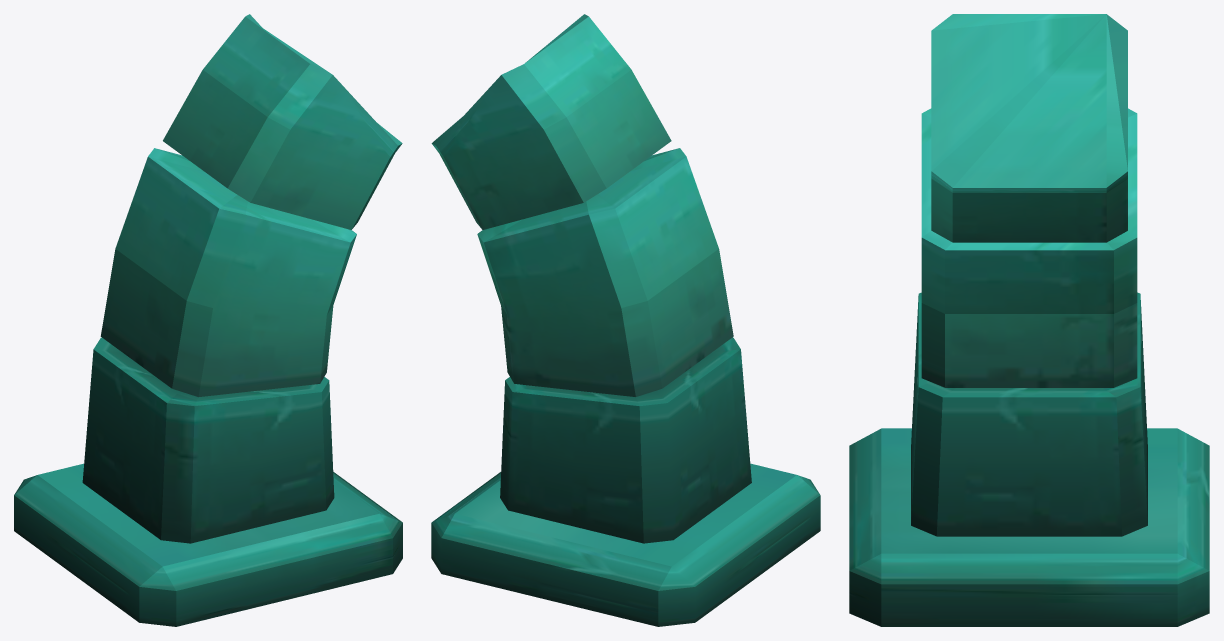
Rendered from wall_column4 (merge).fbx.
3 renders of one model, left to right at view 1: azimuth 30°, elevation 25°; view 2: azimuth 150°, elevation 25°; view 3: azimuth 270°, elevation 25°, orthographic. The views are drawn at different scales.
Parts seen in each view (by area): view 1: wall_column4; view 2: wall_column4; view 3: wall_column4.
Part boxes in pixels (x1,y1,x2,y2): wall_column4: [14, 14, 402, 626]; wall_column4: [431, 14, 820, 626]; wall_column4: [849, 14, 1209, 626].
Bounding box in the file's own units: 2.18 × 3.45 × 1.95.
Materials: 1 (1 with a texture image).
